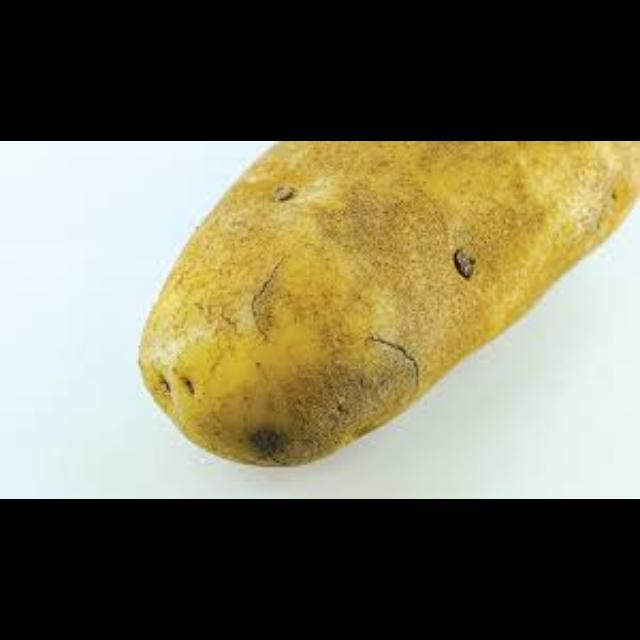Damaged potato: (126, 142, 640, 474)
